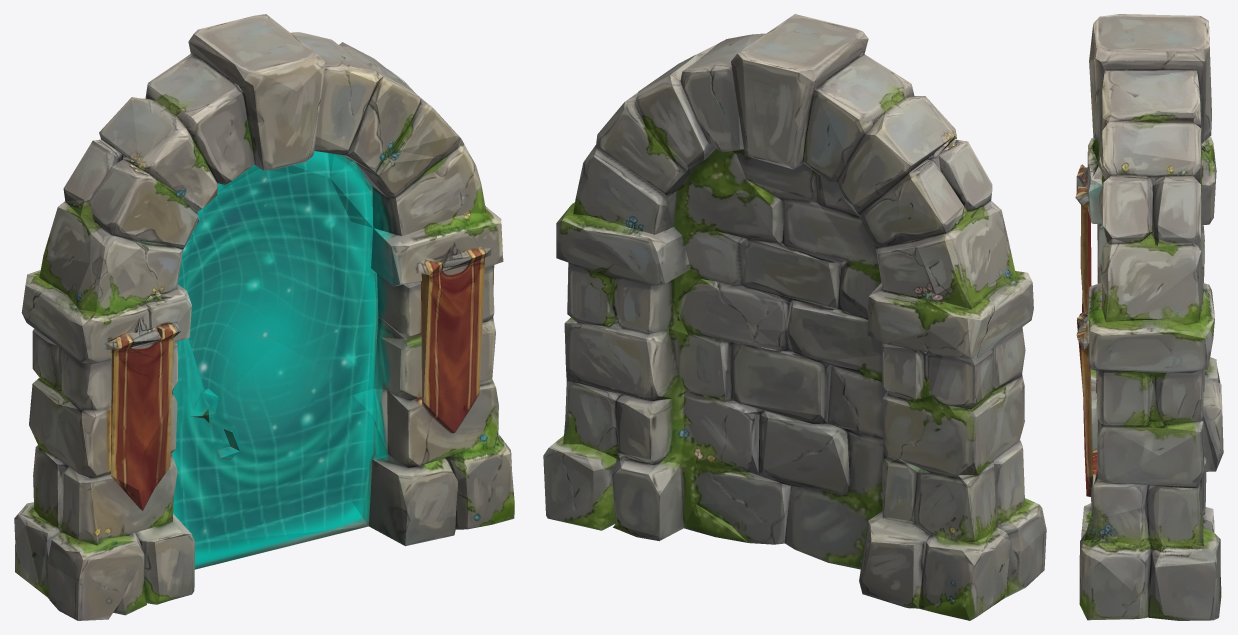
File: meshy.glb
The picture shows the model from 3 angles, left to right: view 1: azimuth 30°, elevation 25°; view 2: azimuth 150°, elevation 25°; view 3: azimuth 270°, elevation 25°; orthographic projection. The views are drawn at different scales.
Size of the model in its own units: 1.73 by 1.89 by 0.5241.
1 material, 1 textured.
